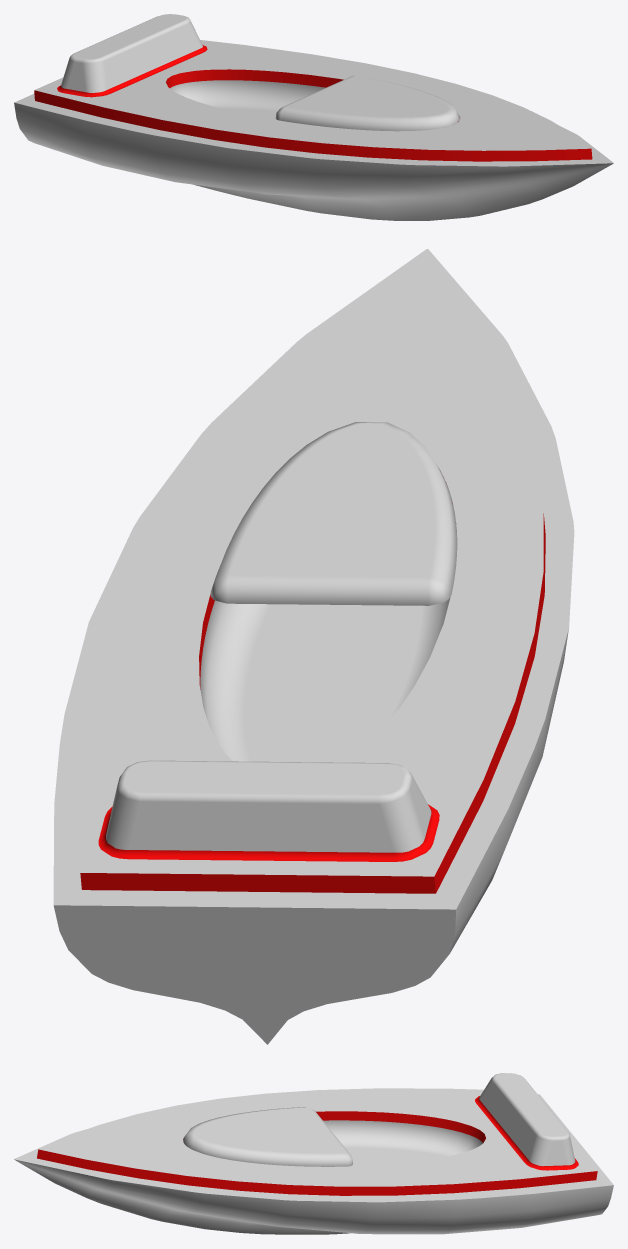
The model's file is toy_boat.glb.
The picture shows the model from 3 angles, top to bottom: view 1: azimuth 30°, elevation 25°; view 2: azimuth 150°, elevation 25°; view 3: azimuth 270°, elevation 25°; orthographic projection. The views are drawn at different scales.
Visible parts, largest first — view 1: Object_2, Object_3; view 2: Object_2, Object_3; view 3: Object_2, Object_3.
Boxes of the visible parts, x1,y1,x2,y2 form: Object_2: (14,14,613,220); Object_3: (34,45,592,161); Object_2: (53,249,574,1044); Object_3: (80,483,545,893); Object_2: (14,1073,613,1234); Object_3: (37,1096,597,1195).
Size of the model in its own units: 1.85 by 0.9303 by 3.27.
